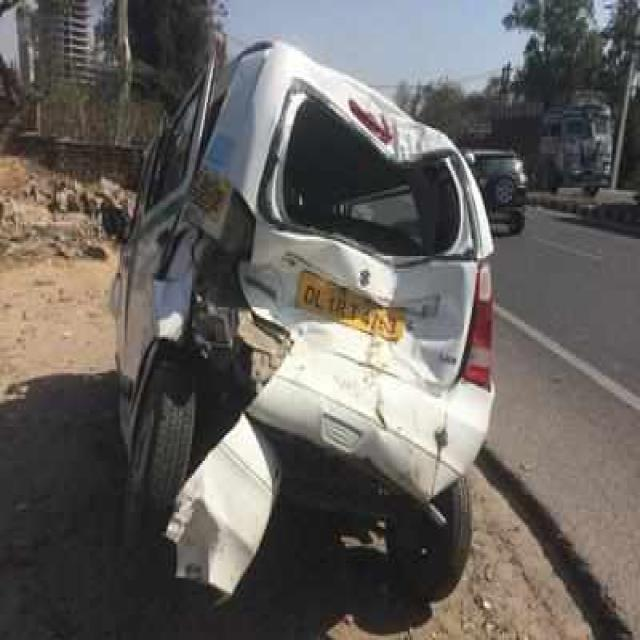accident: (116, 42, 495, 609)
